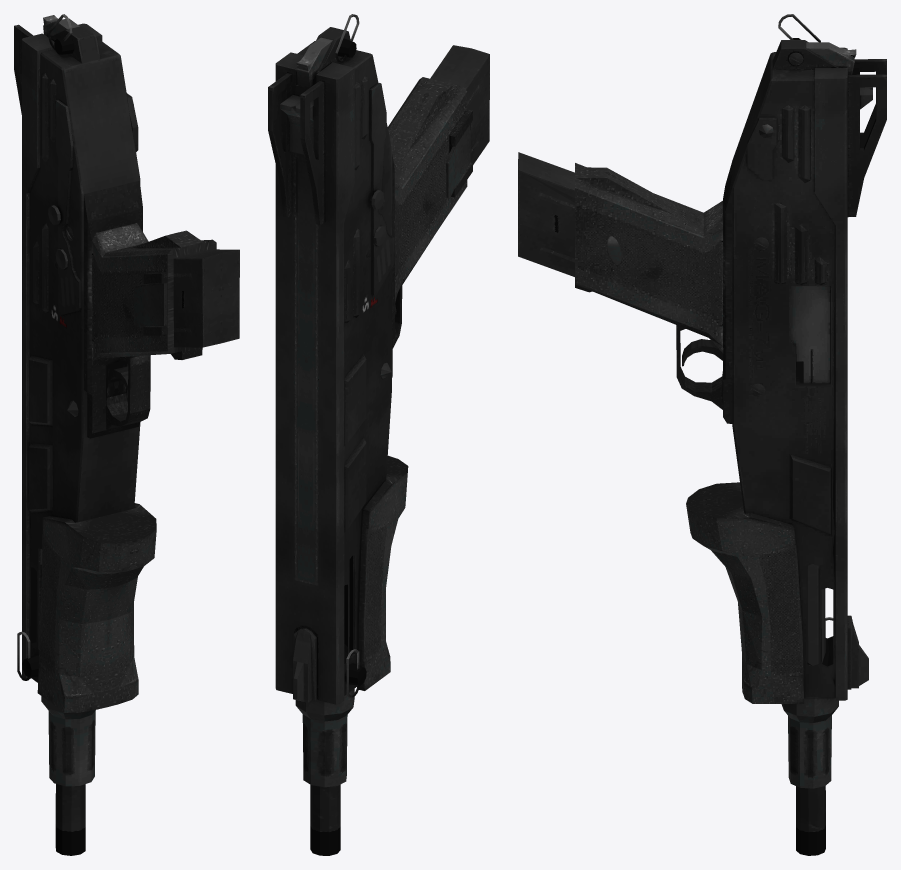
Rendered from w_shot_mag7.obj.
3 views of the same model, side by side, from view 1: azimuth 30°, elevation 25°; view 2: azimuth 150°, elevation 25°; view 3: azimuth 270°, elevation 25° (orthographic). The views are drawn at different scales.
Size of the model in its own units: 0.0269 by 0.2656 by 0.1073.
Materials: 1 (1 with a texture image).
